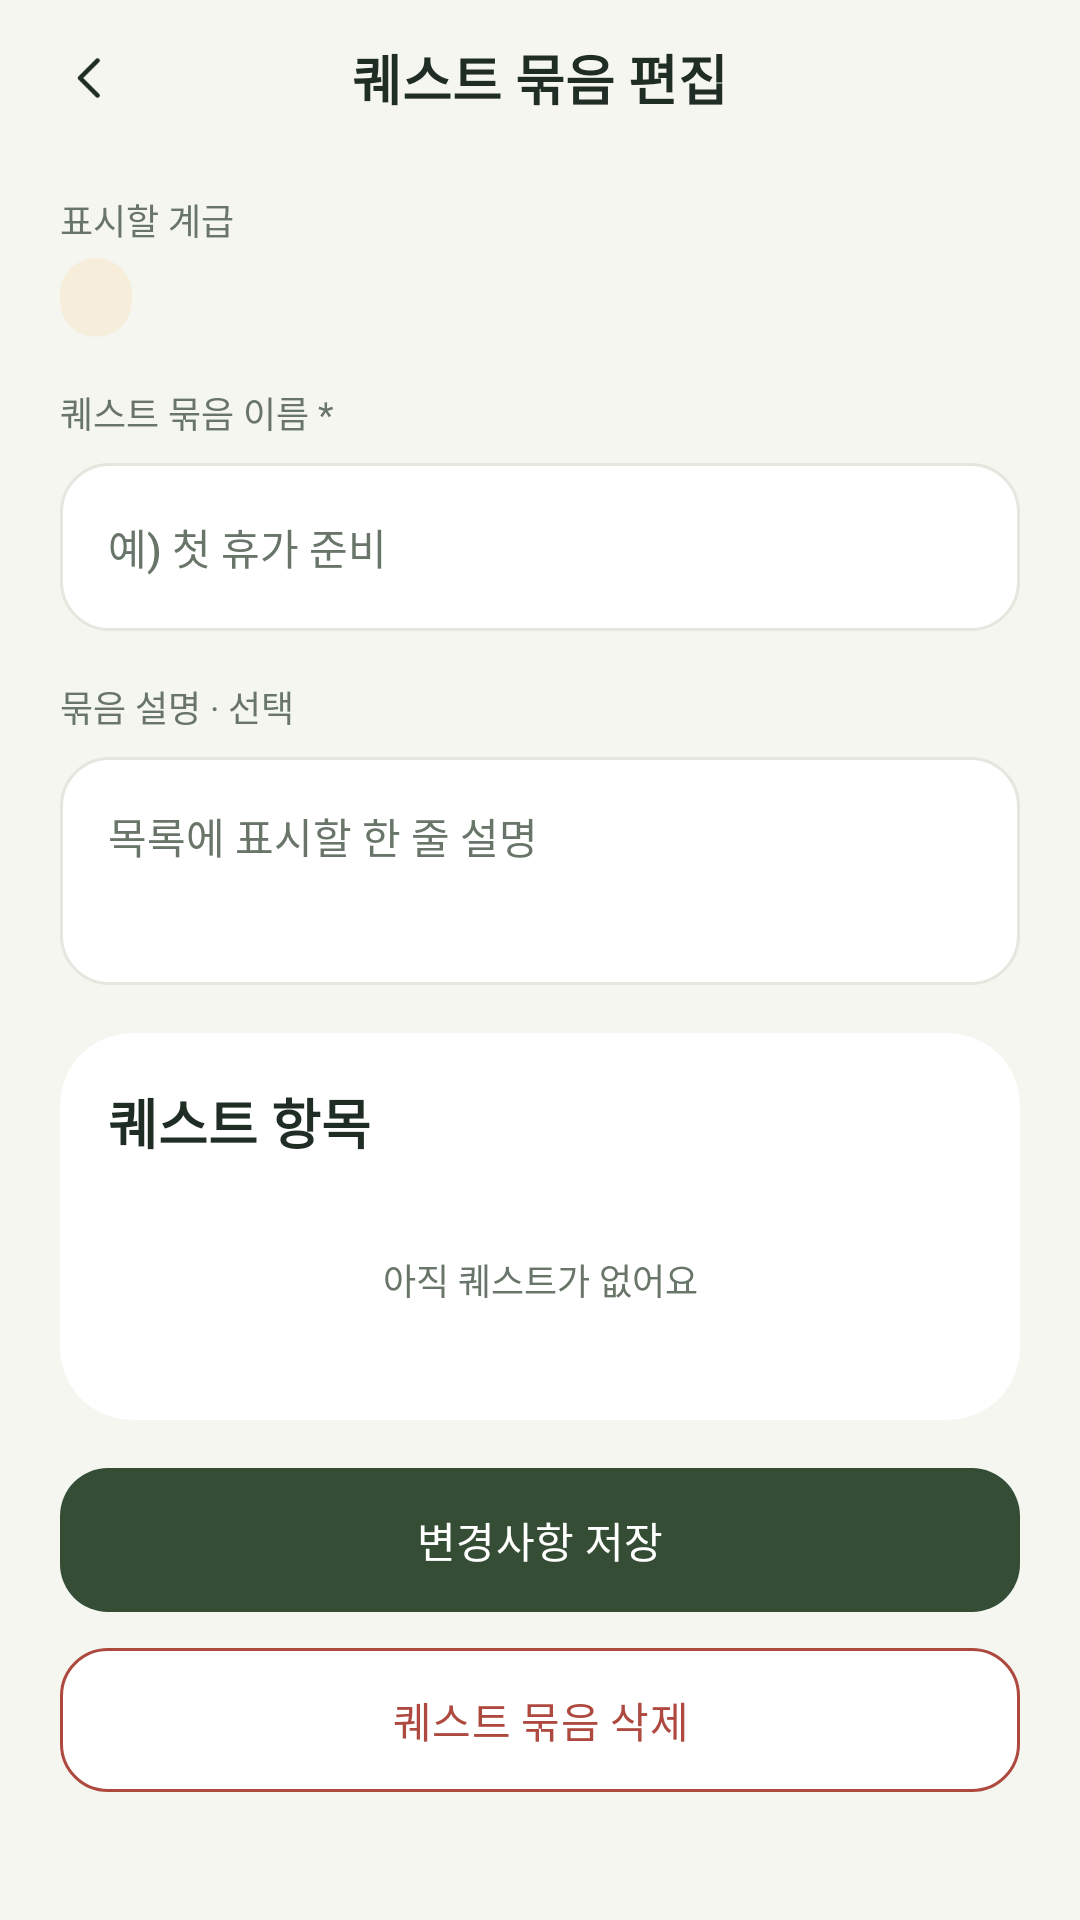

Locate icon controls on the screen. Image size 1080 x 1920, boxes as (x1, y1, x2, y2).
뒤로 가기: (77, 58, 100, 98)
